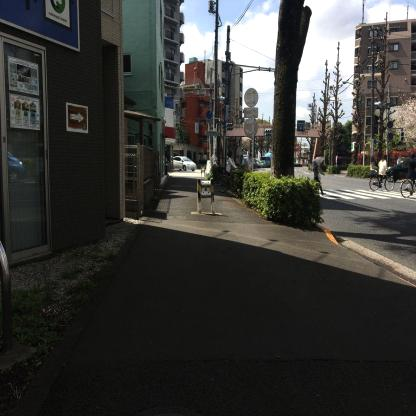Someiyoshino: (389, 89, 416, 148)
